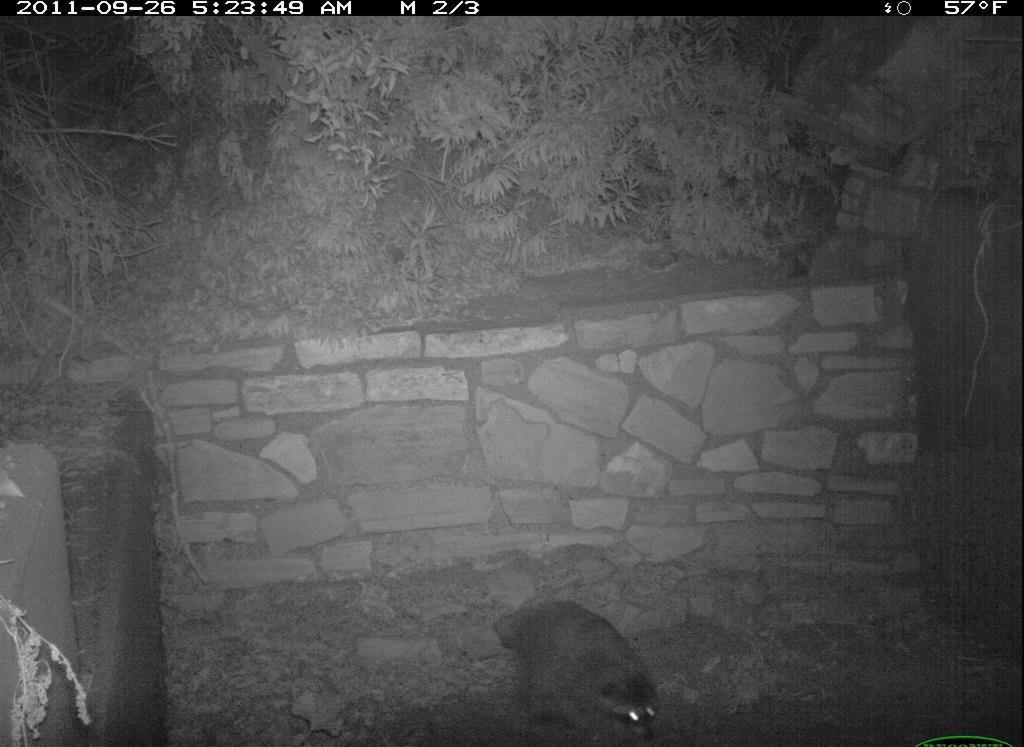raccoon: (475, 591, 684, 744)
